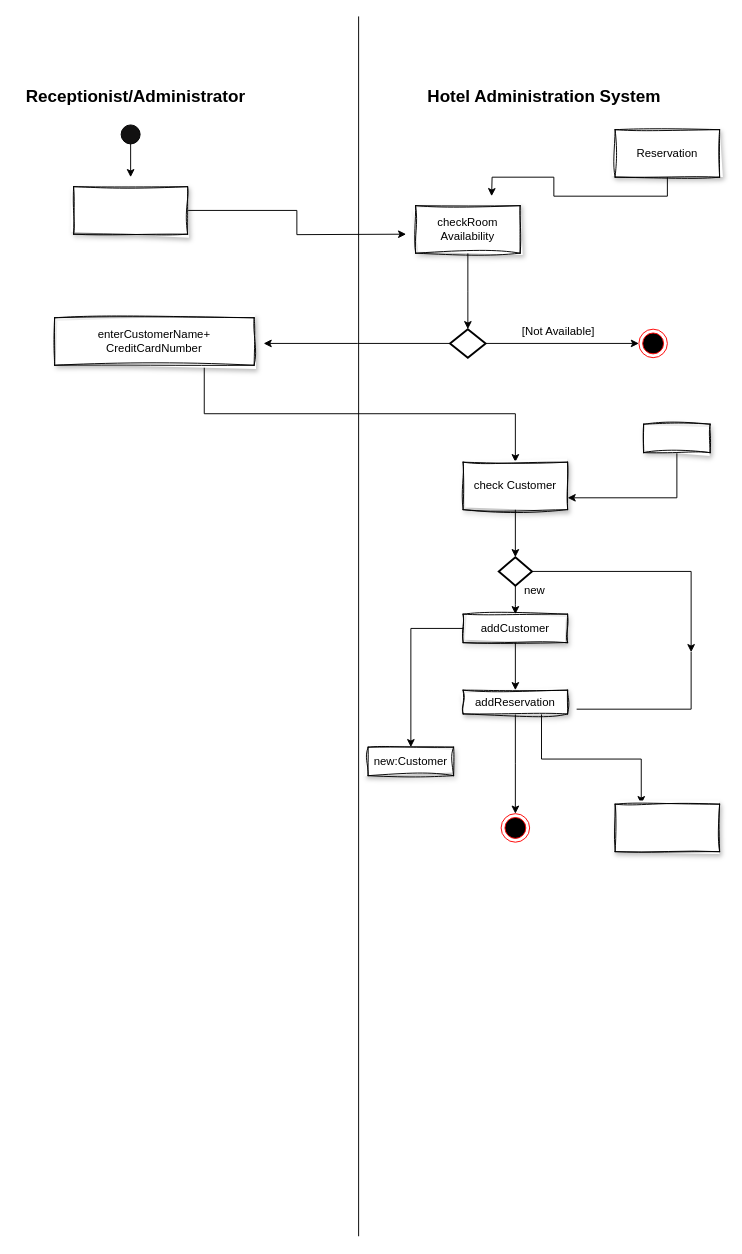
Some shapes in this 742 by 1254 pixel diagram are drawn without their labels. Here are the shapes that lost their labels. From the top down, the centre of each, then its label:
point 131,211: enterDate+Duration+ Room Type
point 677,439: Customer
point 667,828: new: Reservation
